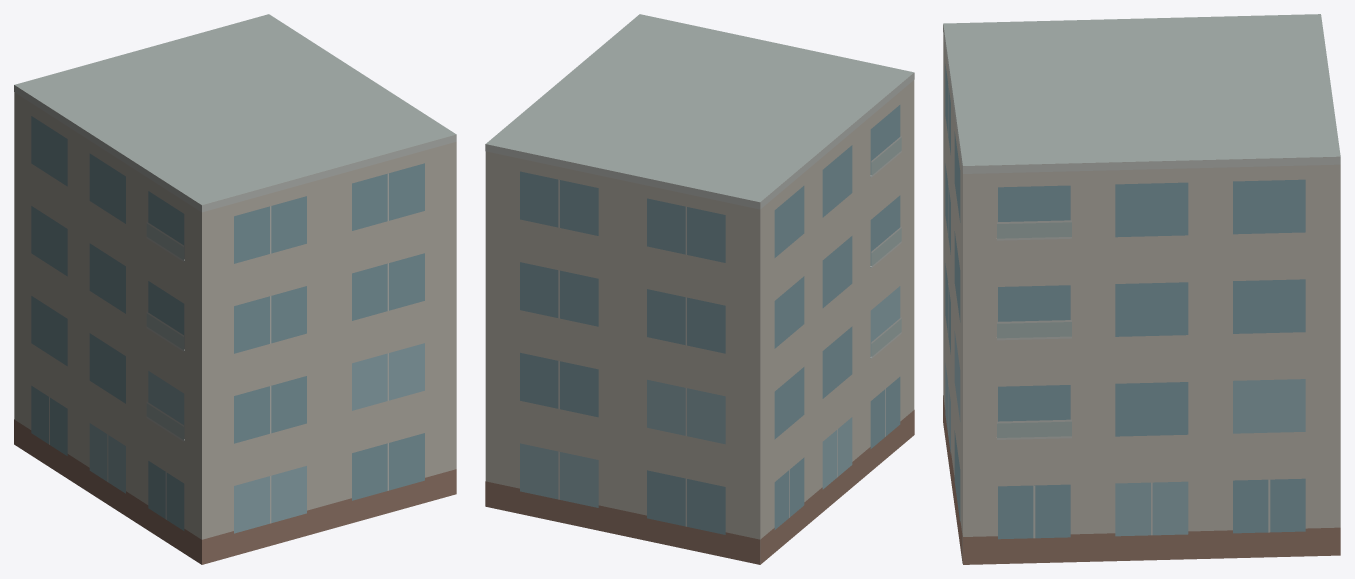
The model's file is residential-f754dbec-b232-48bb-8aa7-d5ecafda35f9.glb.
3 renders of one model, left to right at view 1: azimuth 30°, elevation 25°; view 2: azimuth 150°, elevation 25°; view 3: azimuth 270°, elevation 25°, orthographic. The views are drawn at different scales.
Parts seen in each view (by area): view 1: residential-f754dbec-b232-48bb-8aa7-d5ecafda35f9.tmp; view 2: residential-f754dbec-b232-48bb-8aa7-d5ecafda35f9.tmp; view 3: residential-f754dbec-b232-48bb-8aa7-d5ecafda35f9.tmp.
Part boxes in pixels (x1,y1,x2,y2): residential-f754dbec-b232-48bb-8aa7-d5ecafda35f9.tmp: (14,14,456,564); residential-f754dbec-b232-48bb-8aa7-d5ecafda35f9.tmp: (485,14,914,564); residential-f754dbec-b232-48bb-8aa7-d5ecafda35f9.tmp: (943,14,1340,564).
Size of the model in its own units: 9.99 by 12.2 by 11.03.
